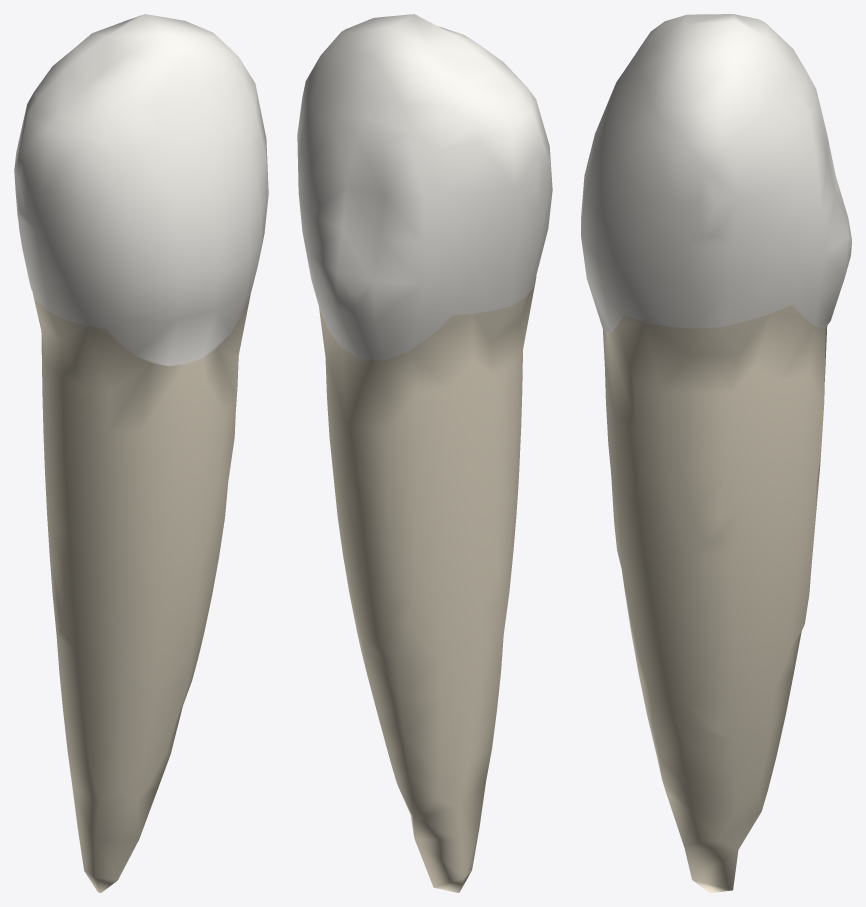
3 views of the same model, side by side, from view 1: azimuth 30°, elevation 25°; view 2: azimuth 150°, elevation 25°; view 3: azimuth 270°, elevation 25° (orthographic). The views are drawn at different scales.
Visible parts, largest first — view 1: root, V, I, D, M; view 2: root, L, I, D, M; view 3: root, M, I, L, V.
Part boxes in pixels (x1,y1,x2,y2): root: (32,293,250,892); V: (105,128,261,365); I: (27,14,255,156); D: (14,104,118,328); M: (238,84,268,264); root: (319,279,535,892); L: (303,122,452,360); I: (305,14,535,150); D: (439,99,552,315); M: (297,82,320,246); root: (603,304,827,892); M: (612,128,803,328); I: (612,14,816,143); L: (792,90,851,327); V: (581,84,624,333).
Size of the model in its own units: 4.99 by 17.43 by 4.75.
